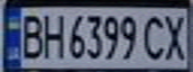3: (84, 11, 106, 61)
6: (63, 11, 87, 60)
9: (118, 11, 142, 61), (103, 11, 121, 61)
B: (15, 10, 45, 60)
C: (139, 11, 169, 61)
H: (39, 11, 66, 60)
X: (160, 11, 193, 62)
